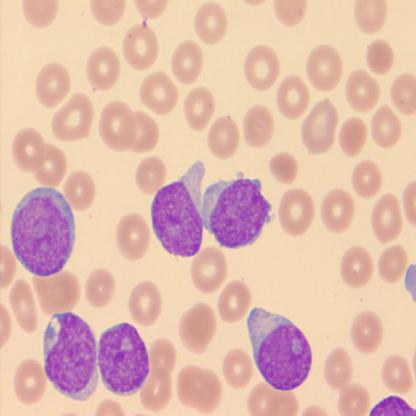Blast: (8, 185, 78, 280), (245, 304, 314, 391), (199, 172, 274, 250), (148, 159, 207, 258), (41, 309, 101, 401), (96, 319, 152, 398)
